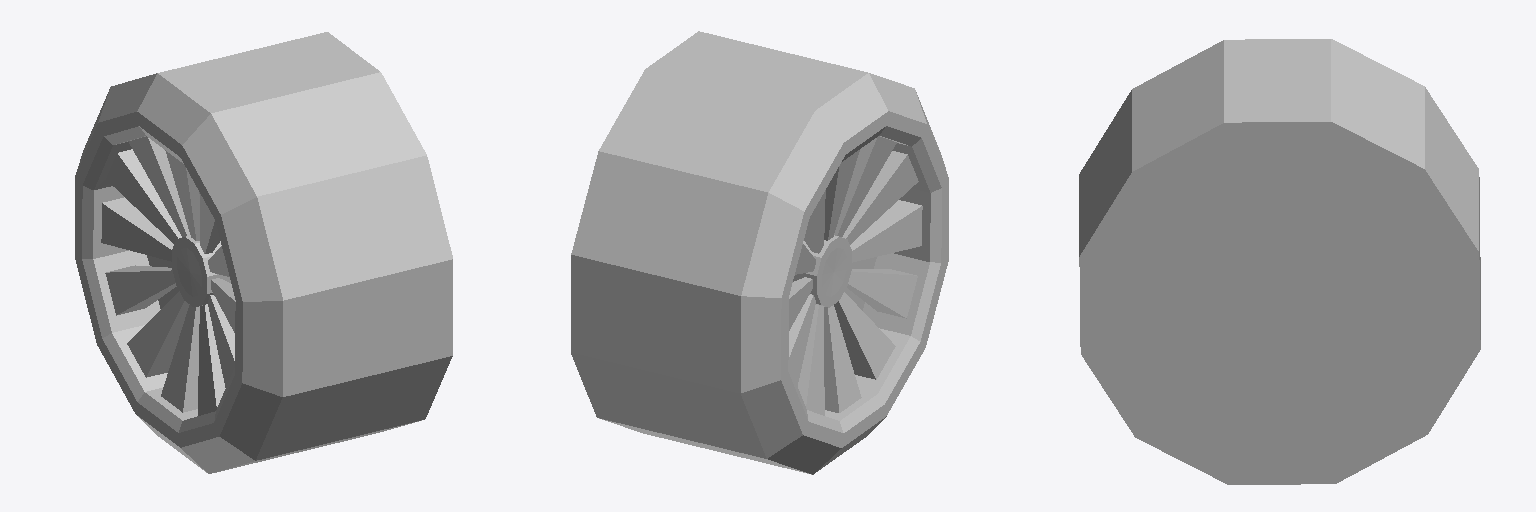
File: Back_Wheels_1.obj
The picture shows the model from 3 angles: view 1: azimuth 30°, elevation 25°; view 2: azimuth 150°, elevation 25°; view 3: azimuth 270°, elevation 25°; orthographic projection.
Parts seen in each view (by area): view 1: wheel_RB; view 2: wheel_RB; view 3: wheel_RB.
Boxes of the visible parts, x1=… form: wheel_RB: x1=75, y1=32, x2=452, y2=473; wheel_RB: x1=571, y1=31, x2=948, y2=474; wheel_RB: x1=1079, y1=39, x2=1480, y2=484.
Size of the model in its own units: 1.51 by 2.7 by 2.7.